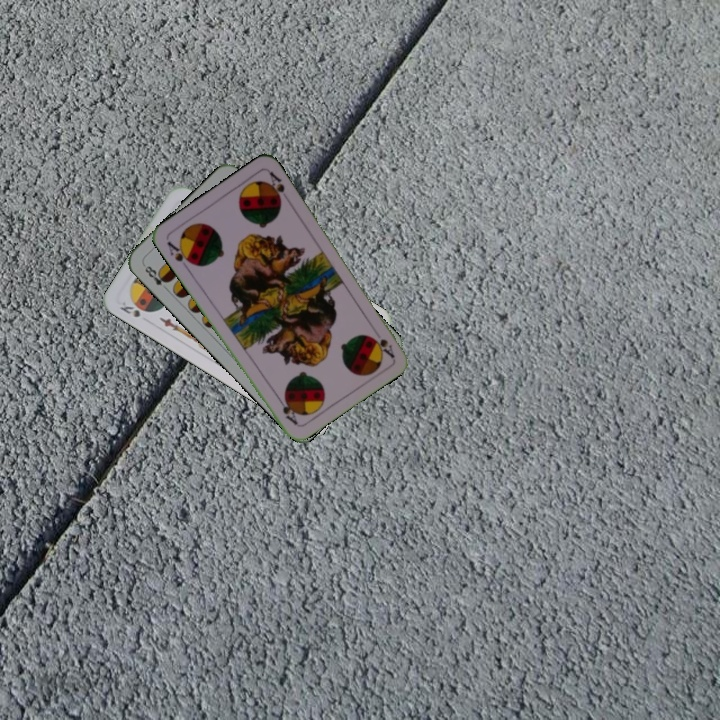E8: (139, 260, 172, 293)
SA: (163, 237, 196, 272), (369, 333, 397, 360)
SK: (115, 302, 143, 320)
